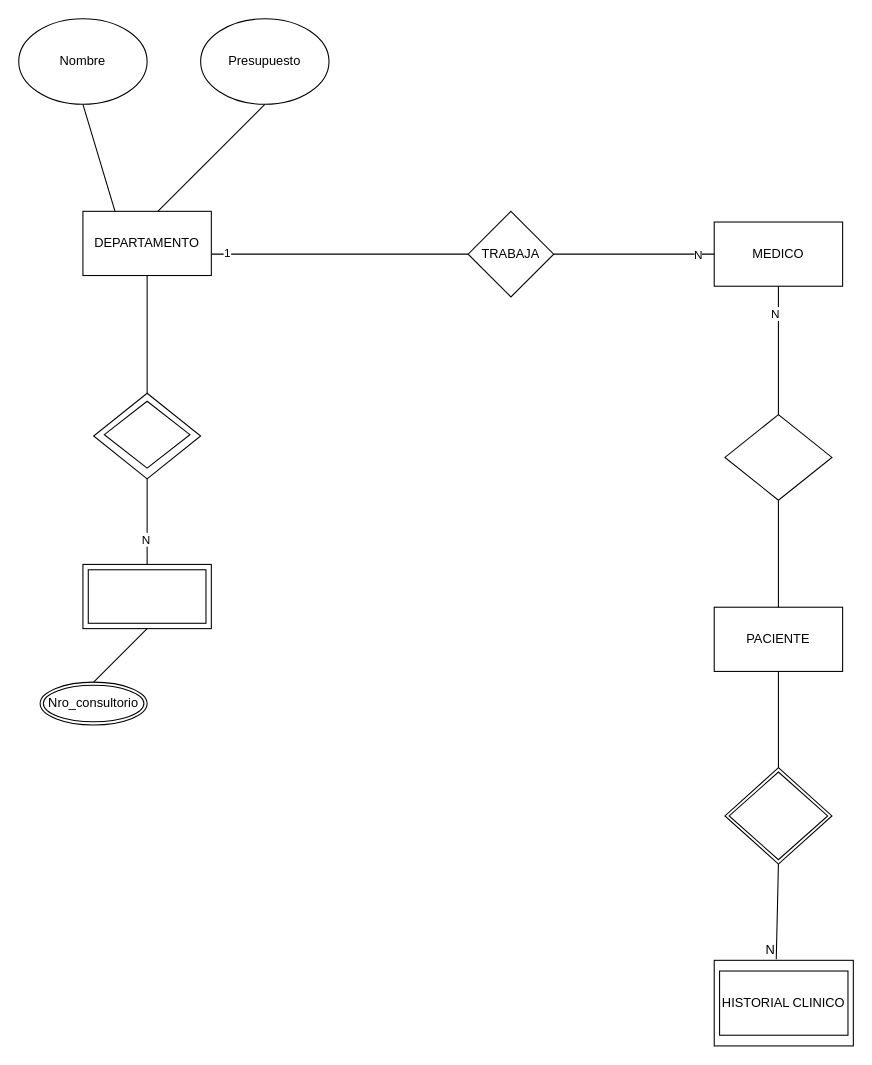
The diagram is 872 pixels wide and 1065 high, and some of its shapes have lost their labels. The box of each missing label's shape, as (x1, y1, x2, y2) in pixels:
ATIENDE: (724, 414, 832, 500)
CONSULTORIO: (87, 569, 206, 623)
PERTENECE: (103, 400, 190, 468)
TIENE: (724, 767, 832, 864)
